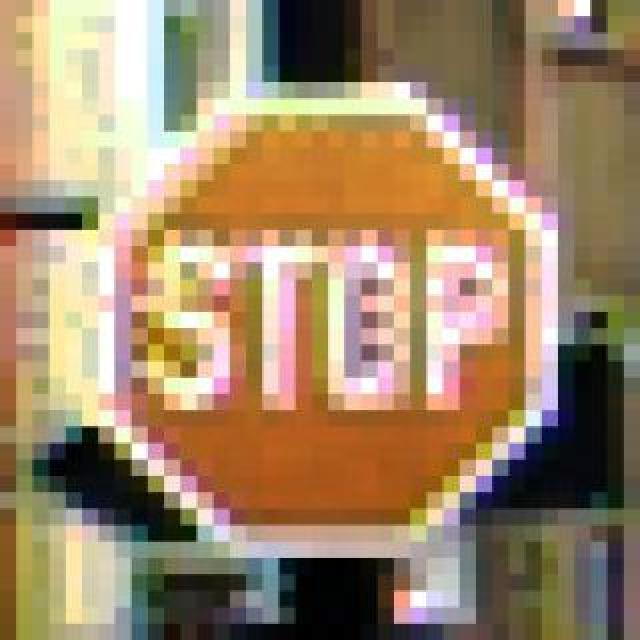stop: (66, 66, 542, 558)
